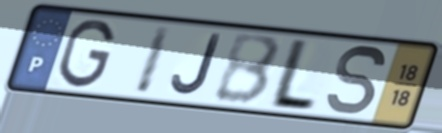B: (210, 33, 283, 107)
G: (55, 18, 117, 90)
I: (130, 23, 176, 97)
J: (169, 31, 225, 98)
L: (263, 37, 321, 115)
S: (324, 42, 389, 119)
